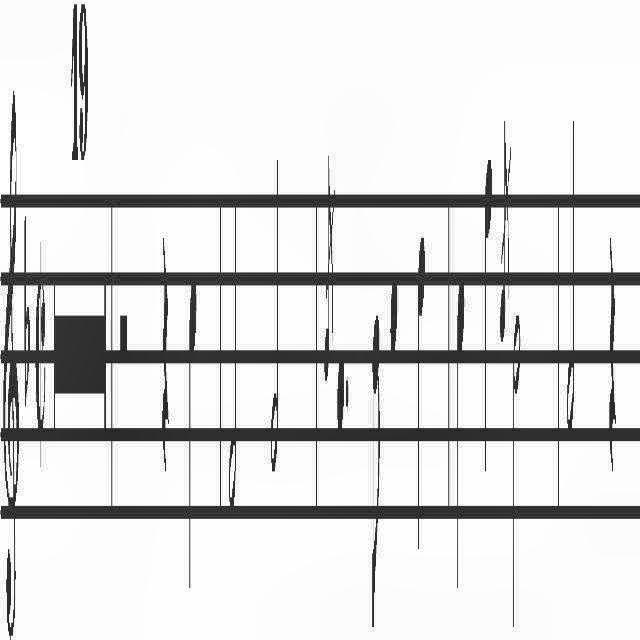Bass-clef: (3, 65, 20, 640)
Bemol: (24, 200, 31, 428)
Eighth-note: (371, 302, 382, 640)
Half-note: (564, 100, 576, 476), (268, 134, 280, 502), (228, 172, 238, 536), (512, 288, 520, 640)
Quarter-note: (334, 108, 346, 440), (187, 259, 197, 627), (483, 142, 493, 498), (457, 254, 467, 606), (389, 250, 398, 602), (418, 225, 427, 563)
Quarter-rest: (608, 217, 616, 498), (162, 216, 170, 488)
